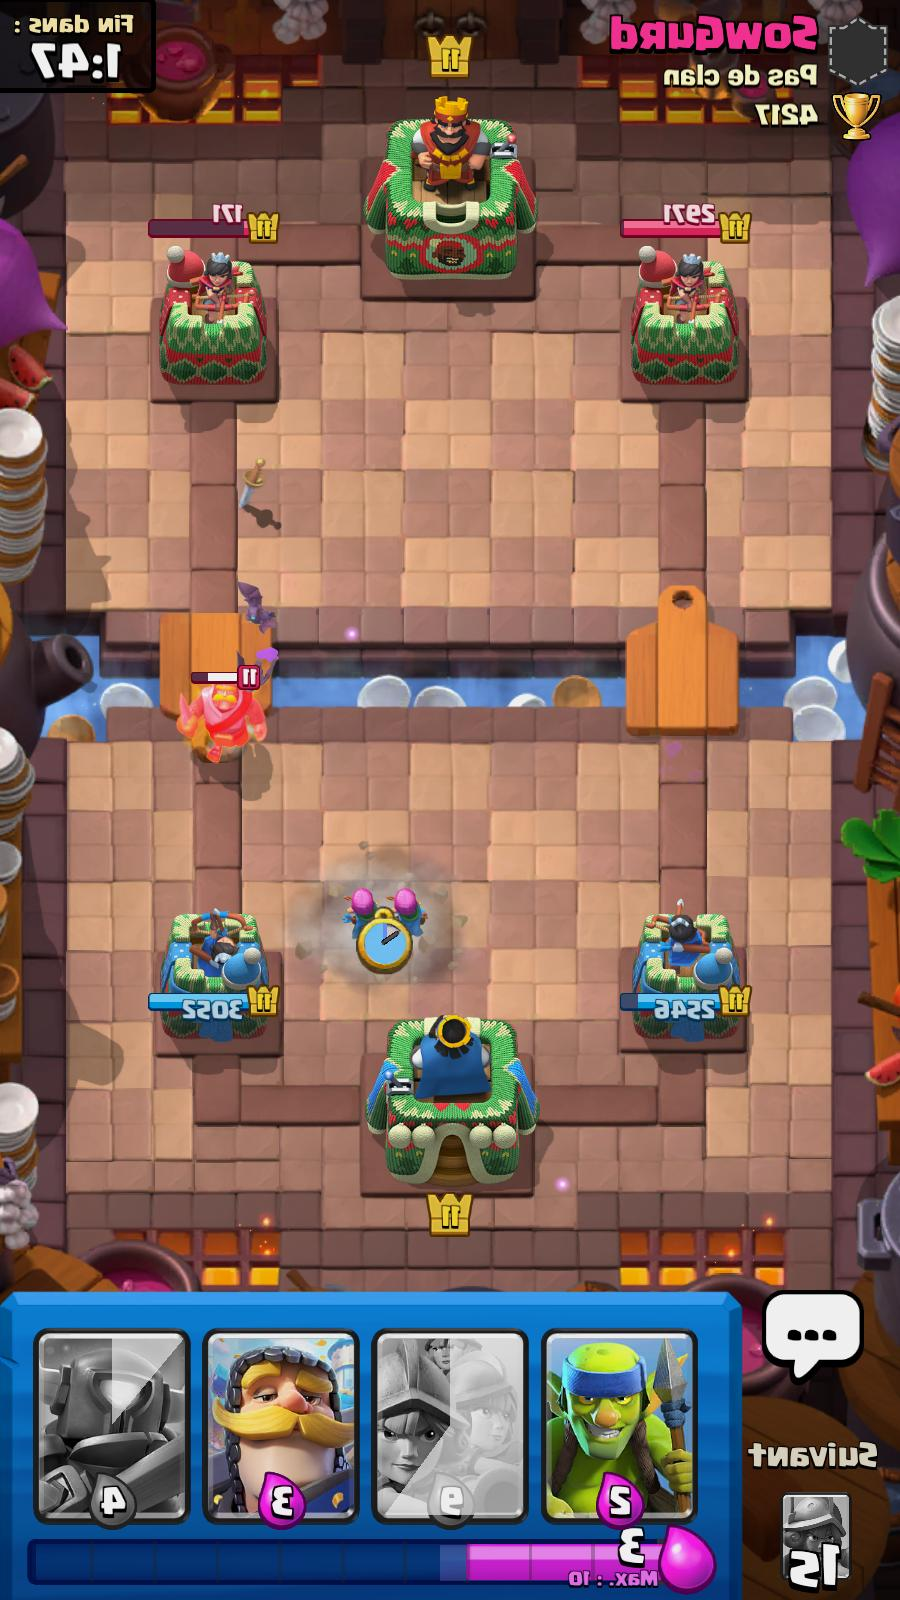archere: (344, 885, 386, 944), (391, 885, 424, 944)
bat: (241, 580, 279, 634), (225, 656, 281, 685)
chevalier: (180, 668, 260, 773)
